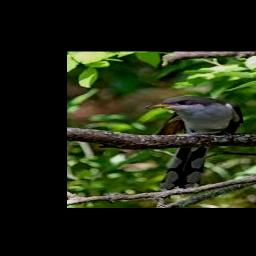Cuckoo: (144, 96, 244, 190)
